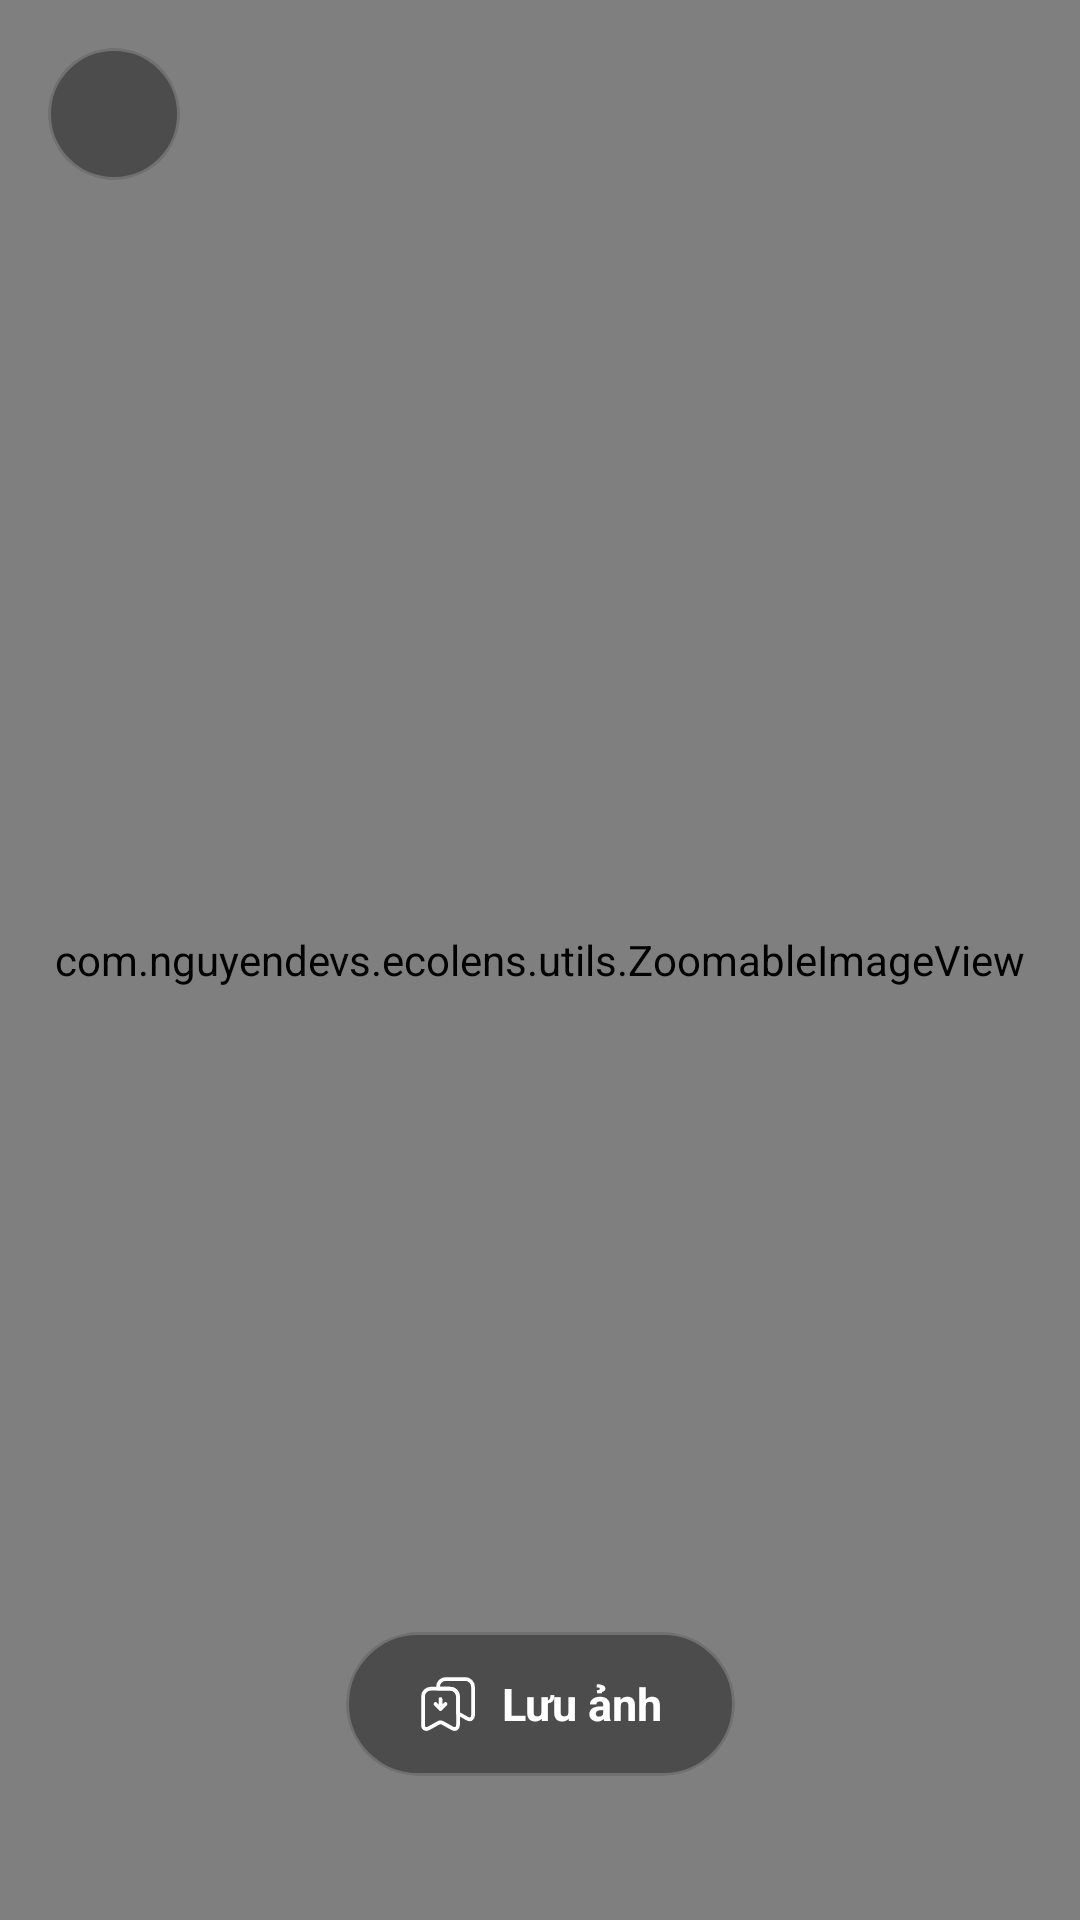

Named icons in this screenshot (1080px x 1920px) and their centers, point (x, y):
save picture: point (448, 1704)
